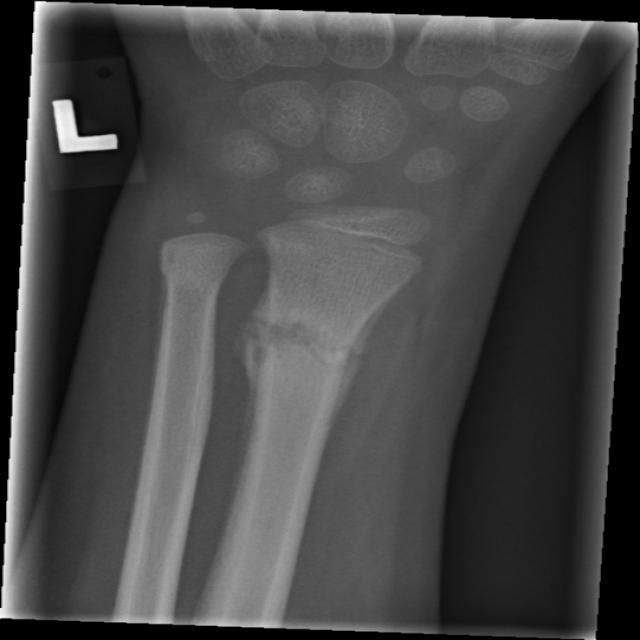radius fracture: (223, 270, 419, 430)
